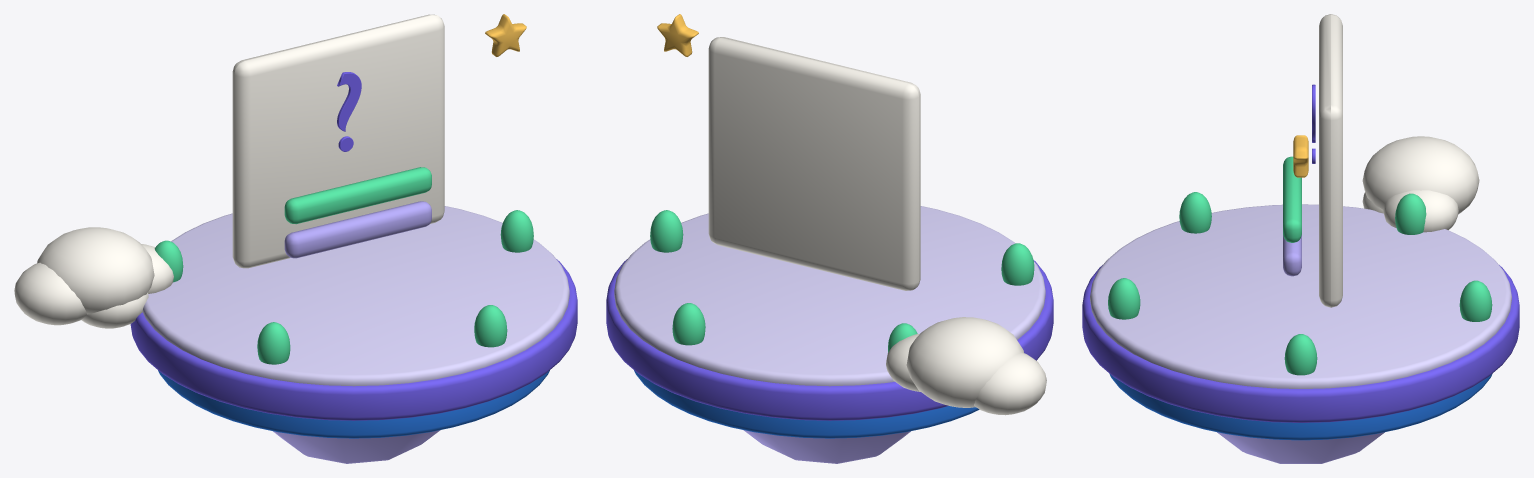
The model's file is quiz.glb.
The picture shows the model from 3 angles, left to right: view 1: azimuth 30°, elevation 25°; view 2: azimuth 150°, elevation 25°; view 3: azimuth 270°, elevation 25°; orthographic projection. The views are drawn at different scales.
Visible parts, largest first — view 1: Island pale top, Question card, Island violet rim, Cloud.001, Island blue underside, Answer pill.001, Answer pill, Cloud, Floating rock, Grass bud, Grass bud.003, Grass bud.004 (+5 smaller); view 2: Question card, Island pale top, Island violet rim, Cloud.001, Island blue underside, Cloud, Floating rock, Grass bud.001, Grass bud, Grass bud.003, Cloud.002, Collectible; view 3: Island pale top, Island violet rim, Question card, Cloud.001, Island blue underside, Floating rock, Cloud.002, Answer pill, Grass bud, Grass bud.004, Grass bud.003, Grass bud.001 (+3 smaller).
Part boxes in pixels (bbox=[...]): Island pale top: bbox=[142, 206, 569, 386]; Question card: bbox=[232, 14, 444, 268]; Island violet rim: bbox=[130, 259, 577, 420]; Cloud.001: bbox=[37, 227, 154, 314]; Island blue underside: bbox=[158, 370, 549, 438]; Answer pill.001: bbox=[284, 201, 431, 258]; Answer pill: bbox=[284, 167, 431, 224]; Cloud: bbox=[14, 262, 86, 325]; Floating rock: bbox=[273, 430, 440, 463]; Grass bud: bbox=[500, 210, 533, 252]; Grass bud.003: bbox=[257, 322, 290, 364]; Grass bud.004: bbox=[474, 305, 507, 347]; Question card: bbox=[708, 37, 920, 290]; Island pale top: bbox=[614, 206, 1045, 386]; Island violet rim: bbox=[606, 259, 1053, 420]; Cloud.001: bbox=[906, 317, 1023, 407]; Island blue underside: bbox=[634, 370, 979, 438]; Cloud: bbox=[974, 352, 1046, 415]; Floating rock: bbox=[743, 430, 910, 463]; Grass bud.001: bbox=[672, 303, 705, 345]; Grass bud: bbox=[650, 210, 683, 252]; Grass bud.003: bbox=[1001, 243, 1034, 285]; Cloud.002: bbox=[886, 334, 920, 391]; Collectible: bbox=[657, 14, 698, 56]; Island pale top: bbox=[1090, 204, 1511, 388]; Island violet rim: bbox=[1082, 265, 1519, 422]; Question card: bbox=[1319, 14, 1342, 307]; Cloud.001: bbox=[1362, 136, 1479, 214]; Island blue underside: bbox=[1109, 374, 1492, 440]; Floating rock: bbox=[1217, 432, 1384, 463]; Cloud.002: bbox=[1383, 190, 1458, 232]; Answer pill: bbox=[1283, 156, 1301, 242]; Grass bud: bbox=[1284, 334, 1317, 375]; Grass bud.004: bbox=[1108, 278, 1140, 319]; Grass bud.003: bbox=[1179, 192, 1211, 233]; Grass bud.001: bbox=[1459, 280, 1492, 321].
Bounding box in the file's own units: 6.14 × 4.9 × 5.1.
